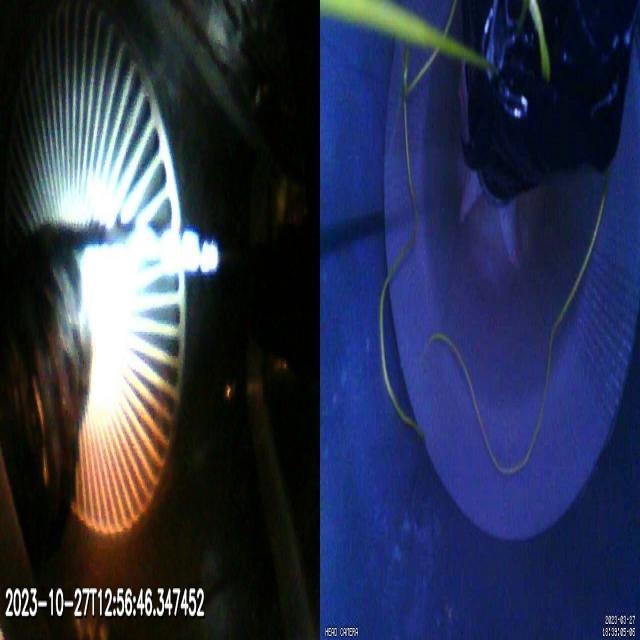white-dots: (160, 228, 218, 275)
